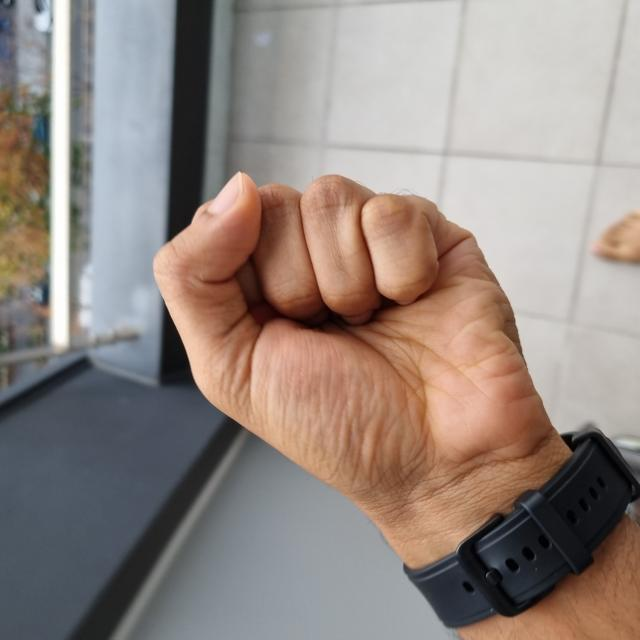Rock: (74, 159, 471, 550)
